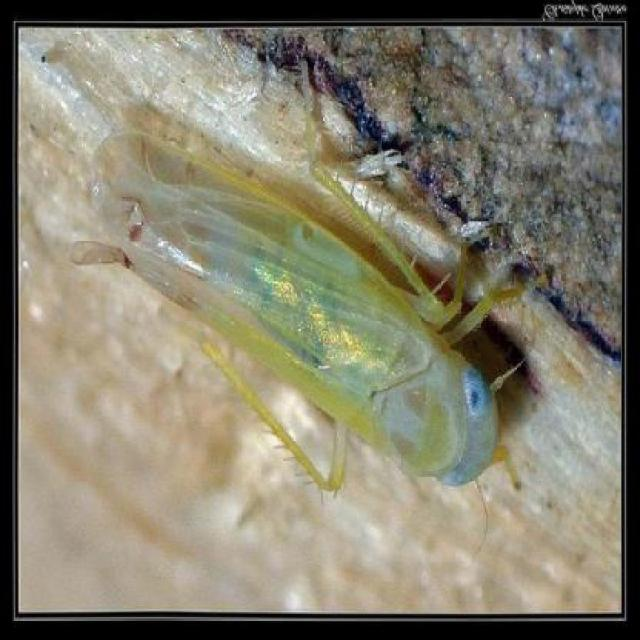green-leafhopper: (82, 143, 510, 494)
